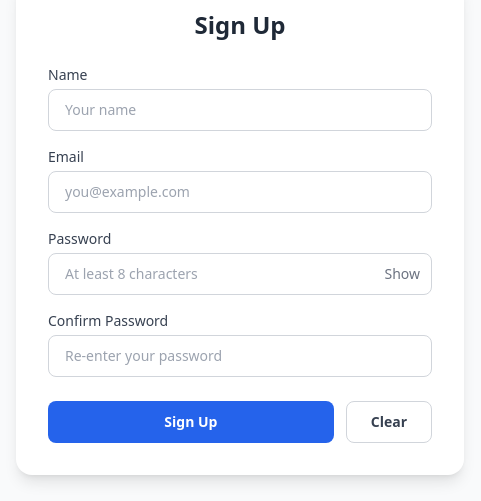
Test case: SignupForm › clear button resets all fields
The image size is (481, 501).
In the field labelled "Name": (240, 110) [48, 89, 432, 131], type "John"
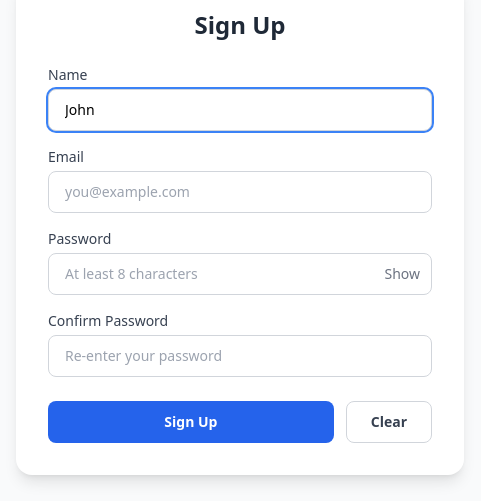
In the field labelled "Email": (240, 192) [48, 171, 432, 213], type "john@example.com"
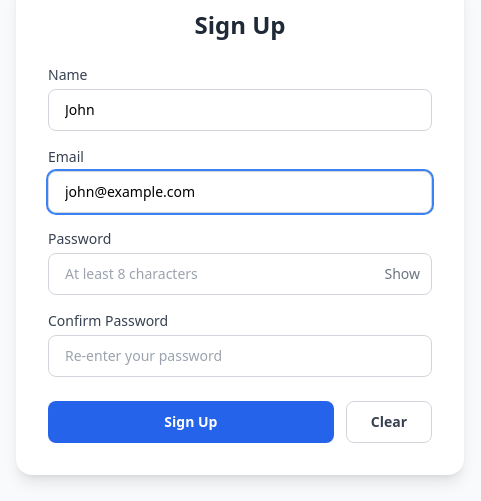
In the password field labelled "Password": (240, 274) [48, 253, 432, 295], type "password123"
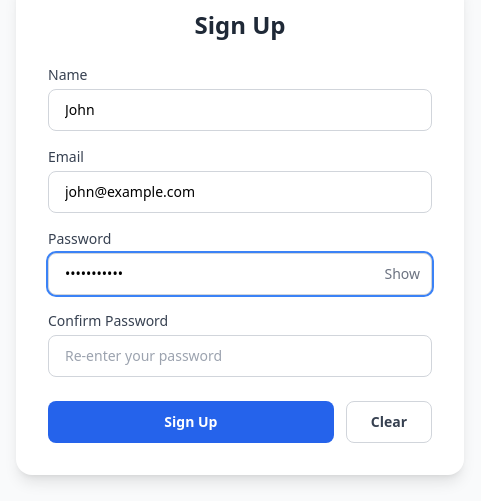
In the password field labelled "Confirm Password": (240, 356) [48, 335, 432, 377], type "password123"
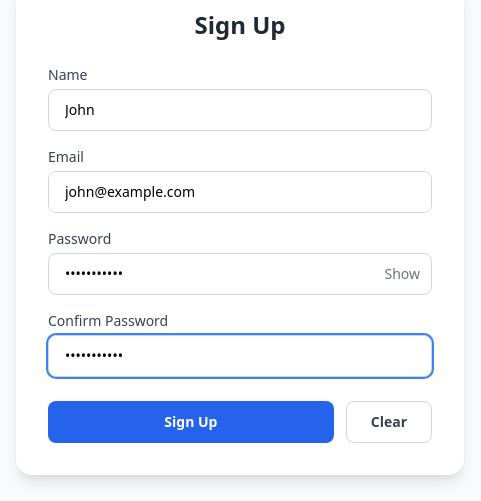
Click the button "Clear": (389, 422) [346, 401, 432, 443]
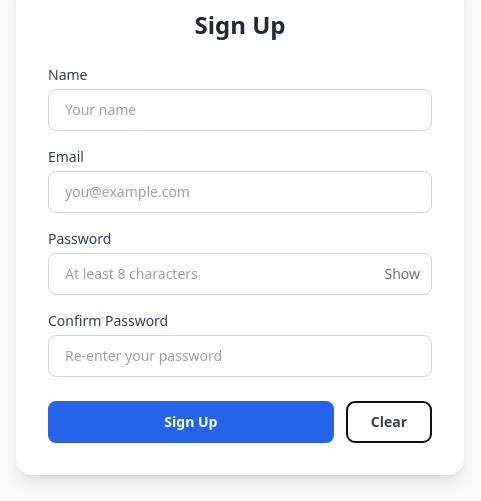
Now the field labelled "Name" is empty, box [48, 89, 432, 131]
Now the field labelled "Email" is empty, box [48, 171, 432, 213]
Now the password field labelled "Password" is empty, box [48, 253, 432, 295]
